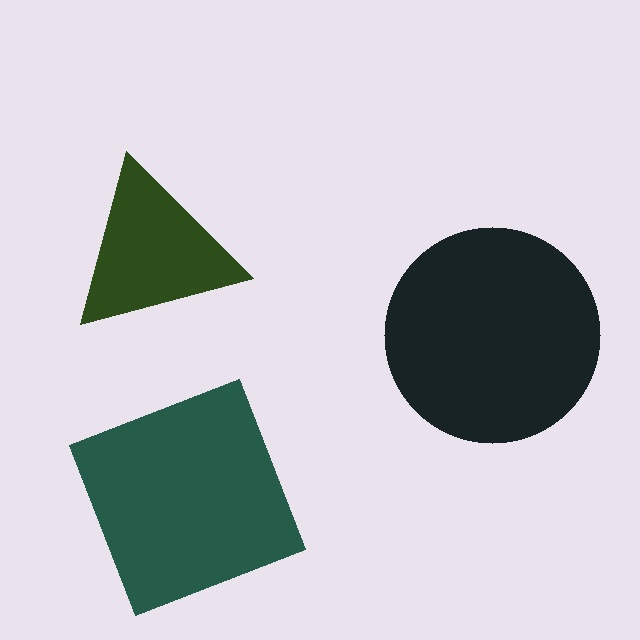circle: (384, 227, 600, 444)
square: (68, 379, 305, 616)
triangle: (79, 151, 253, 325)
